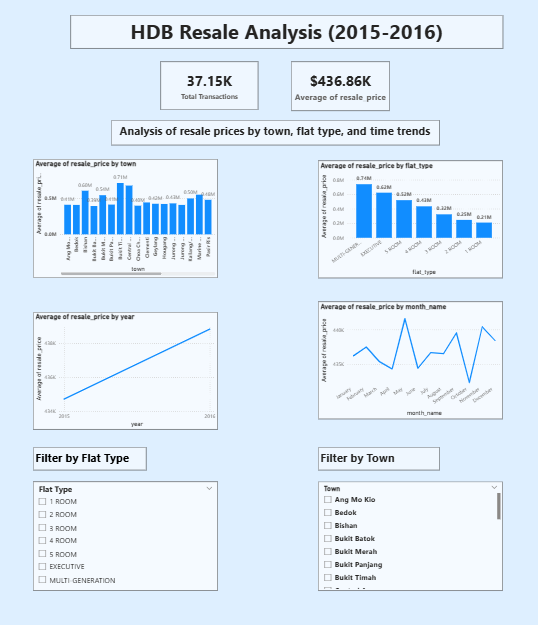

Layout of this report page (visuals, bound fields, positions):
{"tool":"powerbi","page":{"name":"Page 1","canvas":[1300,1500],"ordinal":0},"visuals":[{"type":"card","fields":{"Values":["Avg(hdb_resale_cleaned.resale_price)"]},"box":[700,155,235,117.5],"z":0},{"type":"clusteredColumnChart","fields":{"Category":["hdb_resale_cleaned.town"],"Y":["Avg(hdb_resale_cleaned.resale_price)"]},"box":[86.7,386.7,440,283.3],"z":1000},{"type":"clusteredColumnChart","fields":{"Category":["hdb_resale_cleaned.flat_type"],"Y":["Avg(hdb_resale_cleaned.resale_price)"]},"box":[763.3,390,440,280],"z":2000},{"type":"lineChart","fields":{"Category":["hdb_resale_cleaned.year"],"Y":["Avg(hdb_resale_cleaned.resale_price)"]},"box":[86.7,750,440,280],"z":3000},{"type":"lineChart","fields":{"Y":["Avg(hdb_resale_cleaned.resale_price)"],"Category":["hdb_resale_cleaned.month_name"]},"box":[763.3,726.7,440,280],"z":4000},{"type":"slicer","fields":{"Values":["hdb_resale_cleaned.town"]},"box":[765,1155,440,260],"z":5000},{"type":"slicer","fields":{"Values":["hdb_resale_cleaned.flat_type"]},"box":[85,1155,440,260],"z":6000},{"type":"textbox","box":[175,41.7,1030,80],"z":7000},{"type":"textbox","box":[270,292.5,782.5,60],"z":8000},{"type":"card","fields":{"Values":["CountNonNull(hdb_resale_cleaned.resale_price)"]},"box":[387.5,155,232.5,115],"z":9000},{"type":"textbox","box":[85,1070,270,55],"z":10000},{"type":"textbox","box":[763.3,1071.7,290,55],"z":11000}]}

Visuals, with their boxes in screenshot pixels (x1, y1, x2, y2), scaled from the page's 1300x1500 canvas onto the 538x625 screenshot:
card - Avg(hdb_resale_cleaned.resale_price): 290 65 387 114
clusteredColumnChart - hdb_resale_cleaned.town x Avg(hdb_resale_cleaned.resale_price): 36 161 218 279
clusteredColumnChart - hdb_resale_cleaned.flat_type x Avg(hdb_resale_cleaned.resale_price): 316 162 498 279
lineChart - hdb_resale_cleaned.year x Avg(hdb_resale_cleaned.resale_price): 36 312 218 429
lineChart - Avg(hdb_resale_cleaned.resale_price) x hdb_resale_cleaned.month_name: 316 303 498 419
slicer - hdb_resale_cleaned.town: 317 481 499 590
slicer - hdb_resale_cleaned.flat_type: 35 481 217 590
textbox: 72 17 499 51
textbox: 112 122 436 147
card - CountNonNull(hdb_resale_cleaned.resale_price): 160 65 257 112
textbox: 35 446 147 469
textbox: 316 447 436 469
